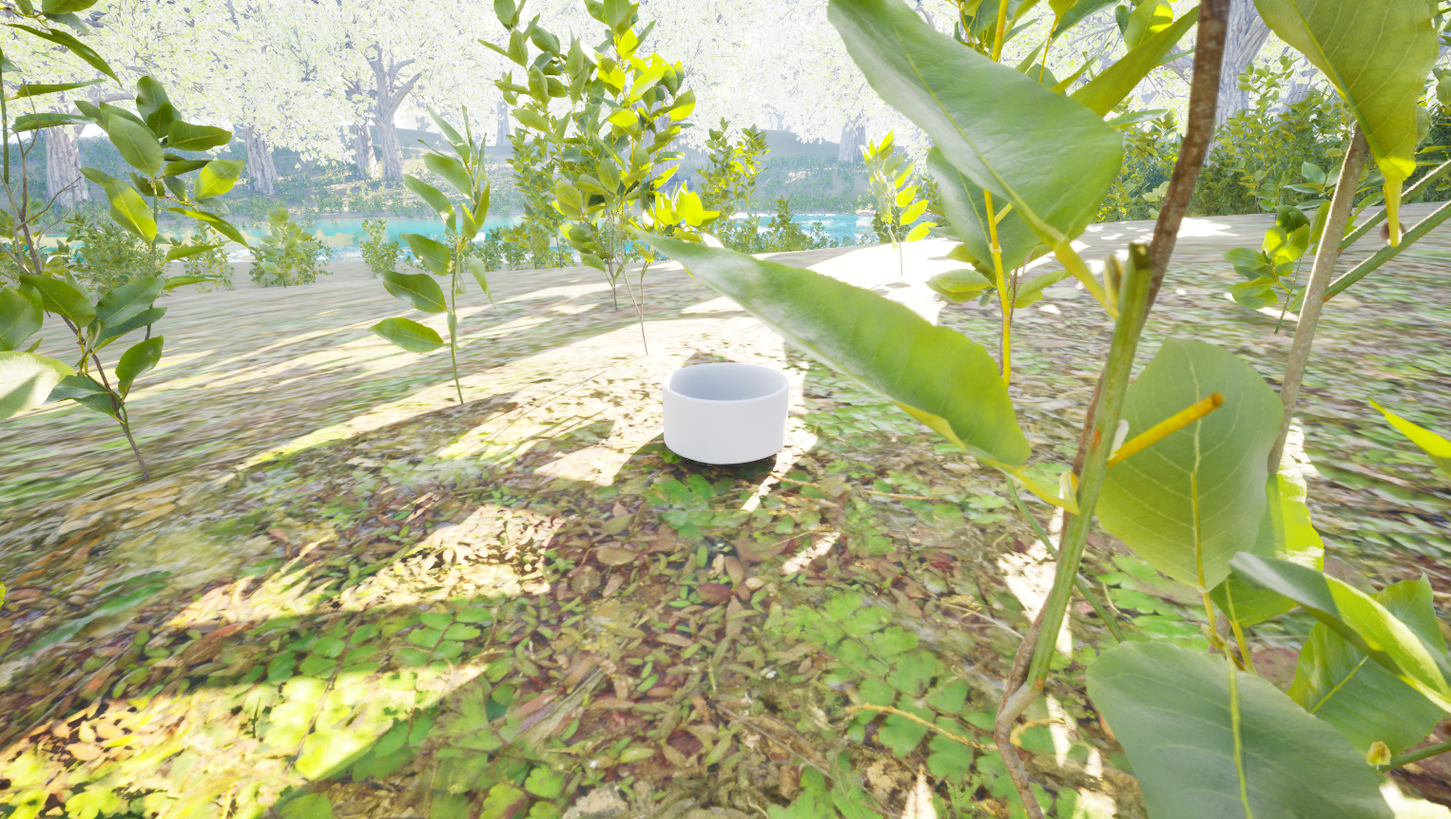Teacup: (646, 355, 795, 470)
